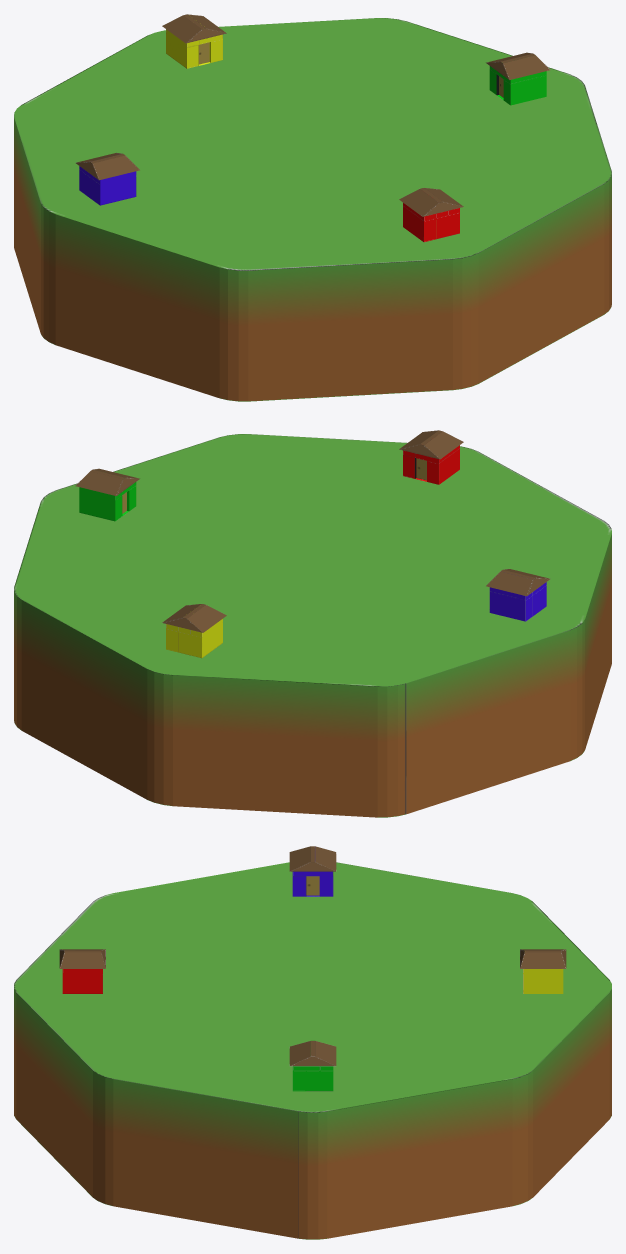
Rendered from Arena.fbx.
3 renders of one model, top to bottom at view 1: azimuth 30°, elevation 25°; view 2: azimuth 150°, elevation 25°; view 3: azimuth 270°, elevation 25°, orthographic. The views are drawn at different scales.
Parts seen in each view (by area): view 1: Cylinder, Cube.002, Cube, Cube.003, Cube.001; view 2: Cylinder, Cube, Cube.002, Cube.003, Cube.001; view 3: Cylinder, Cube.001, Cube.003, Cube, Cube.002.
Part boxes in pixels (x1,y1,x2,y2): Cylinder: (14,18,611,401); Cube.002: (162,14,226,68); Cube: (399,188,463,242); Cube.003: (75,152,139,205); Cube.001: (486,52,550,105); Cylinder: (14,434,611,817); Cube: (399,430,463,484); Cube.002: (162,604,226,658); Cube.003: (486,568,550,621); Cube.001: (75,468,139,521); Cylinder: (14,862,611,1239); Cube.001: (289,1040,336,1091); Cube.003: (289,846,336,896); Cube: (59,949,105,993); Cube.002: (520,949,566,993).
Size of the model in its own units: 2556 by 764 by 2556.
5 materials, 5 textured.
